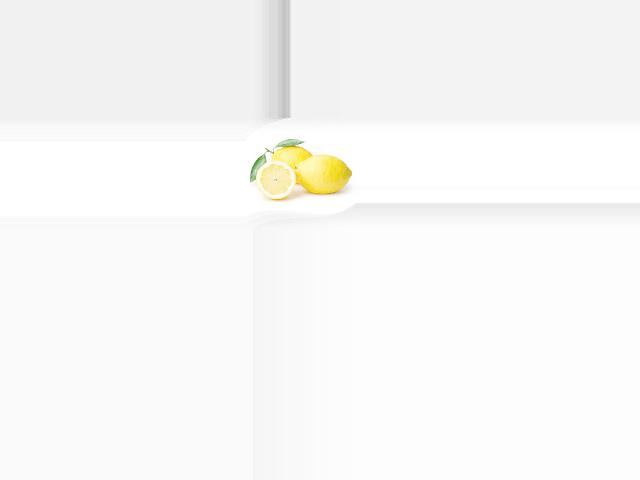lemon: (265, 144, 315, 181)
